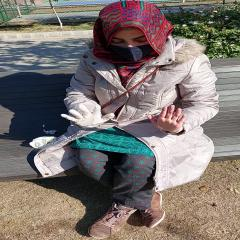gloved: (61, 104, 116, 128)
not-gloved: (149, 106, 185, 132)
